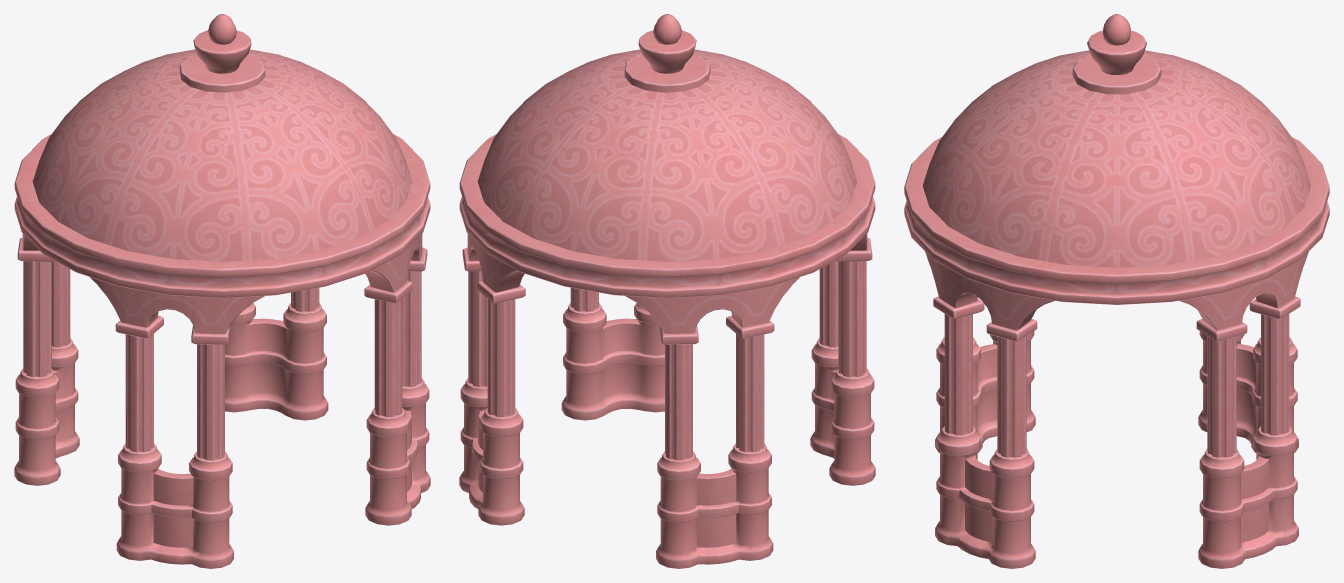
File: gazebo_model.glb
The picture shows the model from 3 angles, left to right: view 1: azimuth 30°, elevation 25°; view 2: azimuth 150°, elevation 25°; view 3: azimuth 270°, elevation 25°; orthographic projection. The views are drawn at different scales.
Visible parts, largest first — view 1: ArchA_low_1__mReBody; view 2: ArchA_low_1__mReBody; view 3: ArchA_low_1__mReBody.
Part boxes in pixels (x1,y1,x2,y2): ArchA_low_1__mReBody: (14,14,430,568); ArchA_low_1__mReBody: (459,14,875,568); ArchA_low_1__mReBody: (904,14,1329,568).
Size of the model in its own units: 29.32 by 36.33 by 29.32.
1 material, 1 textured.
